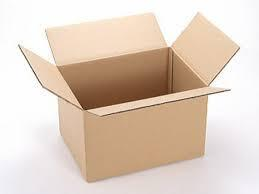box: (17, 12, 240, 183)
